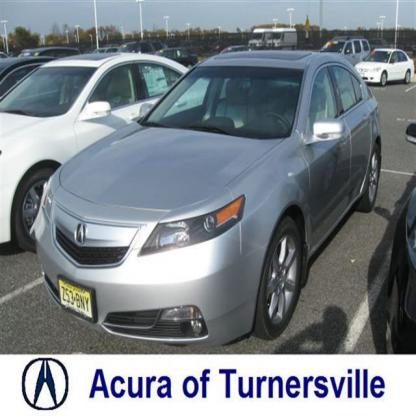Vehicle: (33, 50, 384, 348)
